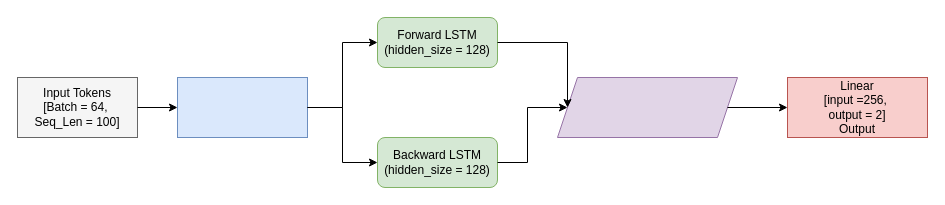
The diagram is 945 pixels wide and 205 high, and some of its shapes have lost their labels. The shapes that lost their labels are listed below. From the top down, each one's centre as x and y in pixels, then its label:
(242,107): Embedding [Batch = 64, Seq_Len = 100, E_dim = 50]
(647,107): Concatenate Dropout = 0.3 [Batch = 64, hidden_size = 256]
